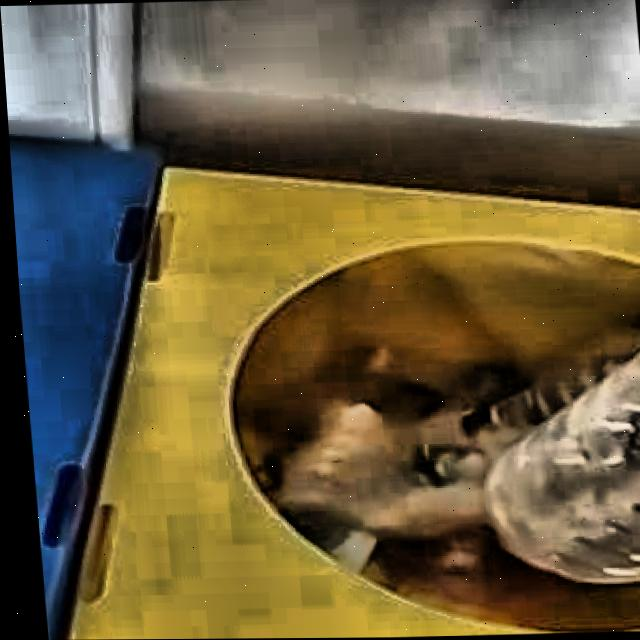plastic: (476, 356, 640, 585)
